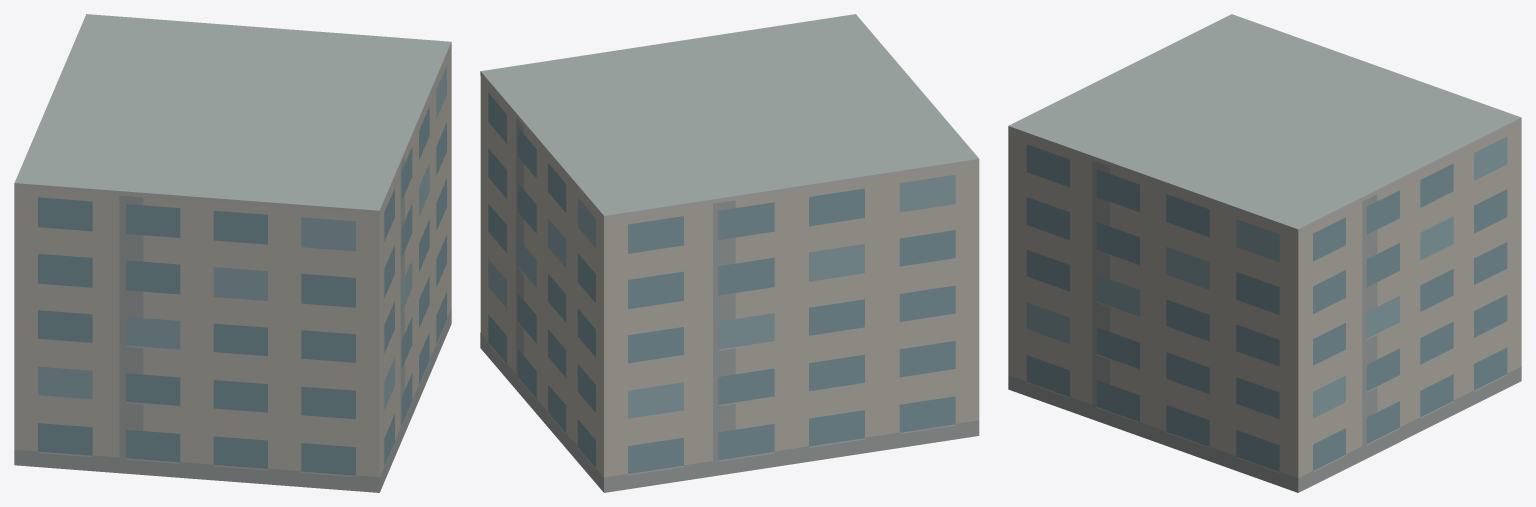
Rendered from residential-dccbefb0-6b1c-4aba-b78f-49e8e38cb017.glb.
3 views of the same model, side by side, from view 1: azimuth 30°, elevation 25°; view 2: azimuth 150°, elevation 25°; view 3: azimuth 270°, elevation 25° (orthographic). The views are drawn at different scales.
Parts seen in each view (by area): view 1: residential-dccbefb0-6b1c-4aba-b78f-49e8e38cb017.tmp; view 2: residential-dccbefb0-6b1c-4aba-b78f-49e8e38cb017.tmp; view 3: residential-dccbefb0-6b1c-4aba-b78f-49e8e38cb017.tmp.
Boxes of the visible parts, left/top/right/bottom form: residential-dccbefb0-6b1c-4aba-b78f-49e8e38cb017.tmp: left=14, top=14, right=451, bottom=492; residential-dccbefb0-6b1c-4aba-b78f-49e8e38cb017.tmp: left=480, top=14, right=979, bottom=492; residential-dccbefb0-6b1c-4aba-b78f-49e8e38cb017.tmp: left=1008, top=14, right=1521, bottom=492.
Bounding box in the file's own units: 26.74 × 15.25 × 26.94.
